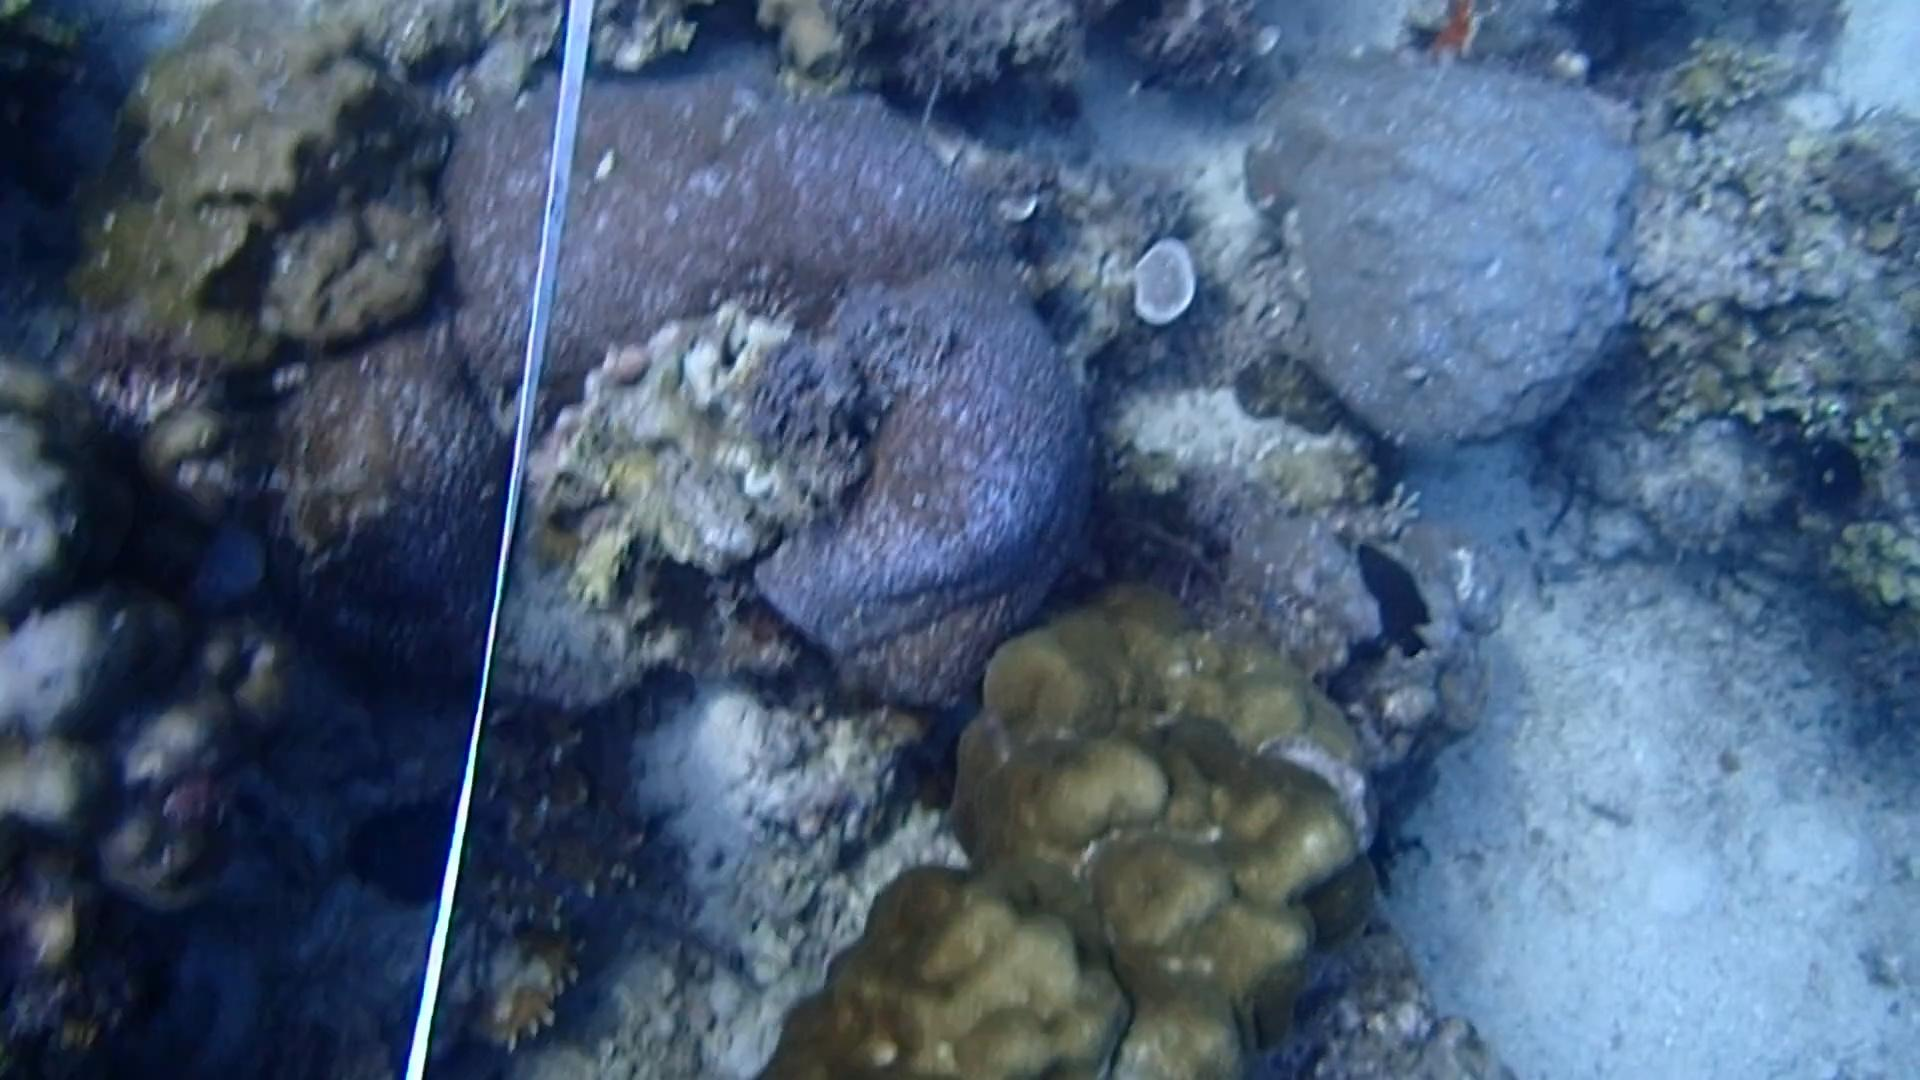Dark Fish: (1352, 533, 1435, 658)
